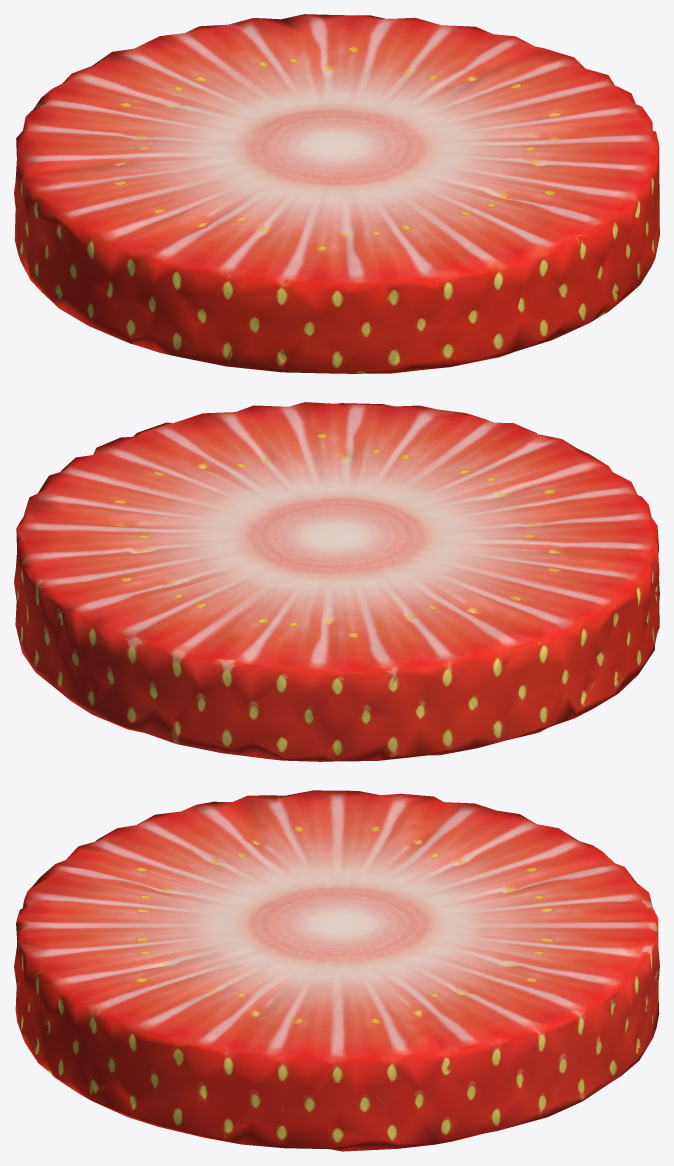
File: strawberry (1).glb
3 renders of one model, top to bottom at view 1: azimuth 30°, elevation 25°; view 2: azimuth 150°, elevation 25°; view 3: azimuth 270°, elevation 25°, orthographic.
Parts seen in each view (by area): view 1: Mesh10; view 2: Mesh10; view 3: Mesh10.
Part boxes in pixels (x1=…): Mesh10: x1=14, y1=14, x2=659, y2=373; Mesh10: x1=14, y1=402, x2=659, y2=761; Mesh10: x1=14, y1=790, x2=659, y2=1151.
Bounding box in the file's own units: 1.91 × 0.3067 × 1.91.
1 material, 1 textured.
